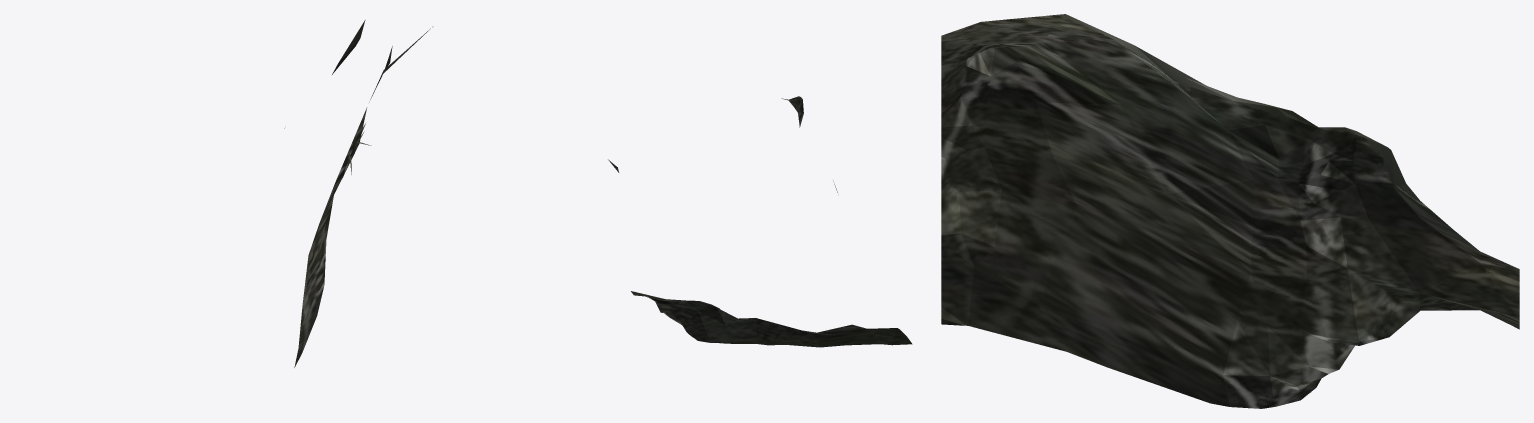
3 views of the same model, side by side, from view 1: azimuth 30°, elevation 25°; view 2: azimuth 150°, elevation 25°; view 3: azimuth 270°, elevation 25° (orthographic). The views are drawn at different scales.
Bounding box in the file's own units: 2.95 × 2.6 × 2.95.
Materials: 3 (3 with a texture image).
